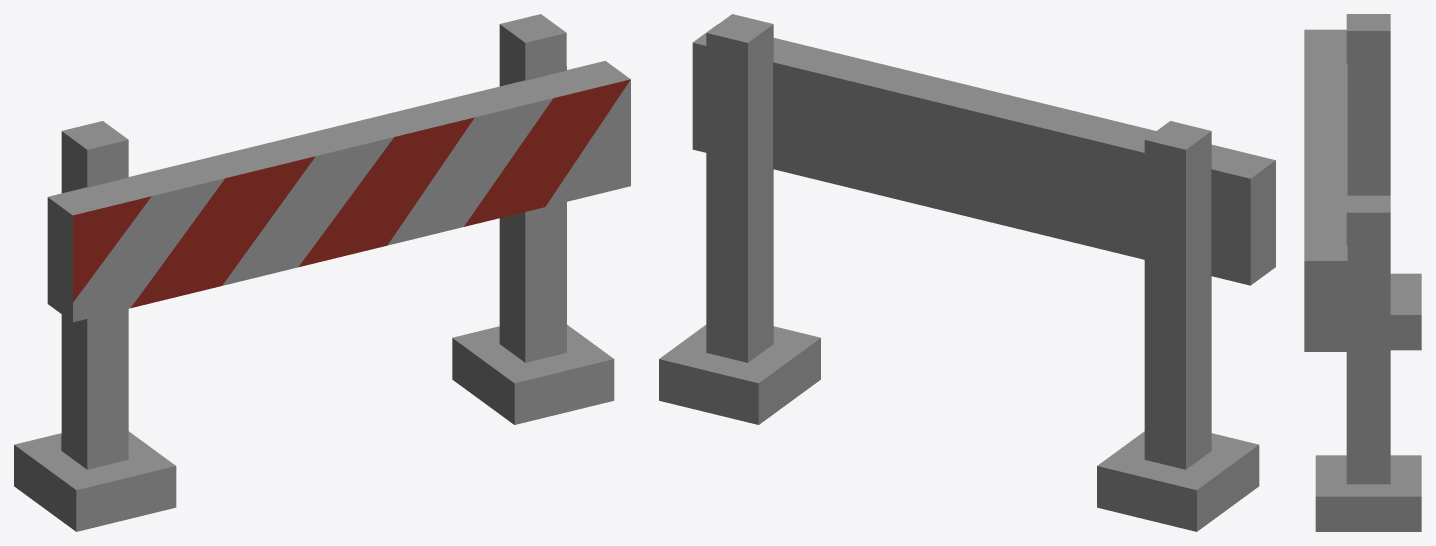
The model's file is fence_05.fbx.
The picture shows the model from 3 angles, left to right: view 1: azimuth 30°, elevation 25°; view 2: azimuth 150°, elevation 25°; view 3: azimuth 270°, elevation 25°; orthographic projection. The views are drawn at different scales.
Visible parts, largest first — view 1: fence_05; view 2: fence_05; view 3: fence_05.
Boxes of the visible parts, x1,y1,x2,y2 form: fence_05: (14, 14, 630, 531); fence_05: (659, 14, 1275, 531); fence_05: (1304, 14, 1421, 531).
Size of the model in its own units: 163 by 101 by 34.78.
